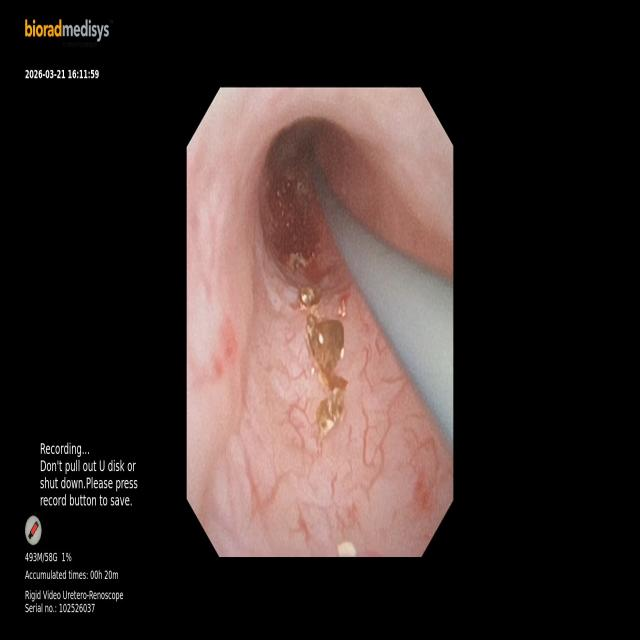stone-new: (307, 315, 344, 388), (316, 388, 344, 437), (298, 286, 321, 309)
